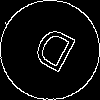D: (25, 25, 79, 83)
